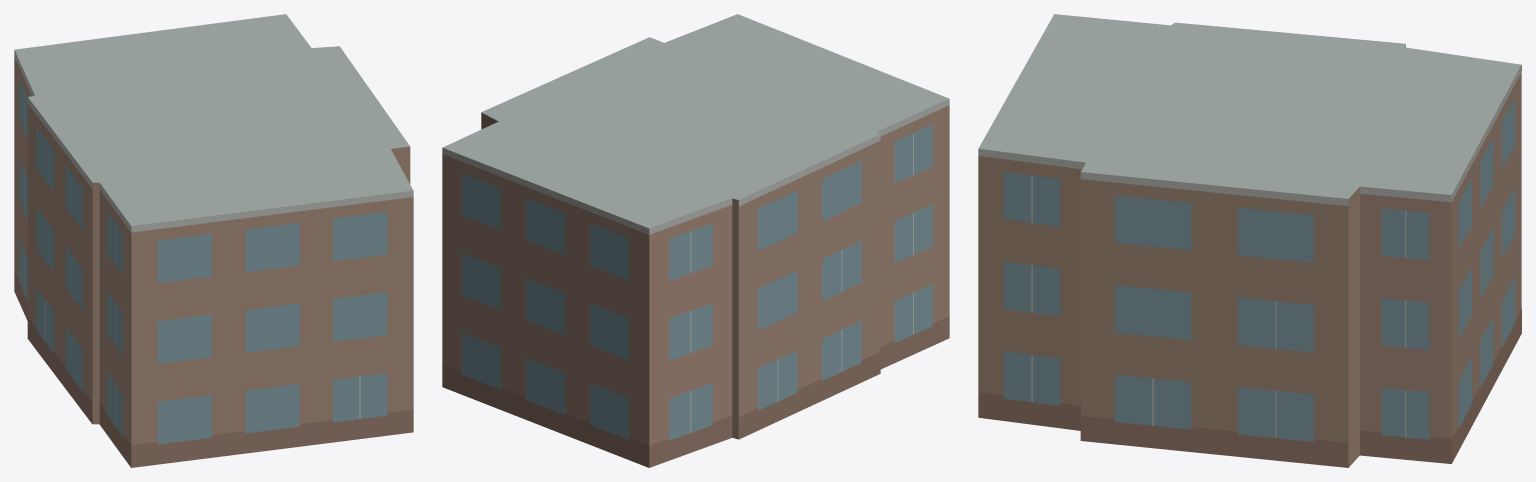
File: survey-upis-32830292.glb
3 renders of one model, left to right at view 1: azimuth 30°, elevation 25°; view 2: azimuth 150°, elevation 25°; view 3: azimuth 270°, elevation 25°, orthographic. The views are drawn at different scales.
Parts seen in each view (by area): view 1: survey-upis-32830292.tmp; view 2: survey-upis-32830292.tmp; view 3: survey-upis-32830292.tmp.
Boxes of the visible parts, <box> form: survey-upis-32830292.tmp: <box>14,14,413,467</box>; survey-upis-32830292.tmp: <box>442,14,949,467</box>; survey-upis-32830292.tmp: <box>978,14,1521,467</box>.
Bounding box in the file's own units: 13.51 × 9.15 × 16.77.
